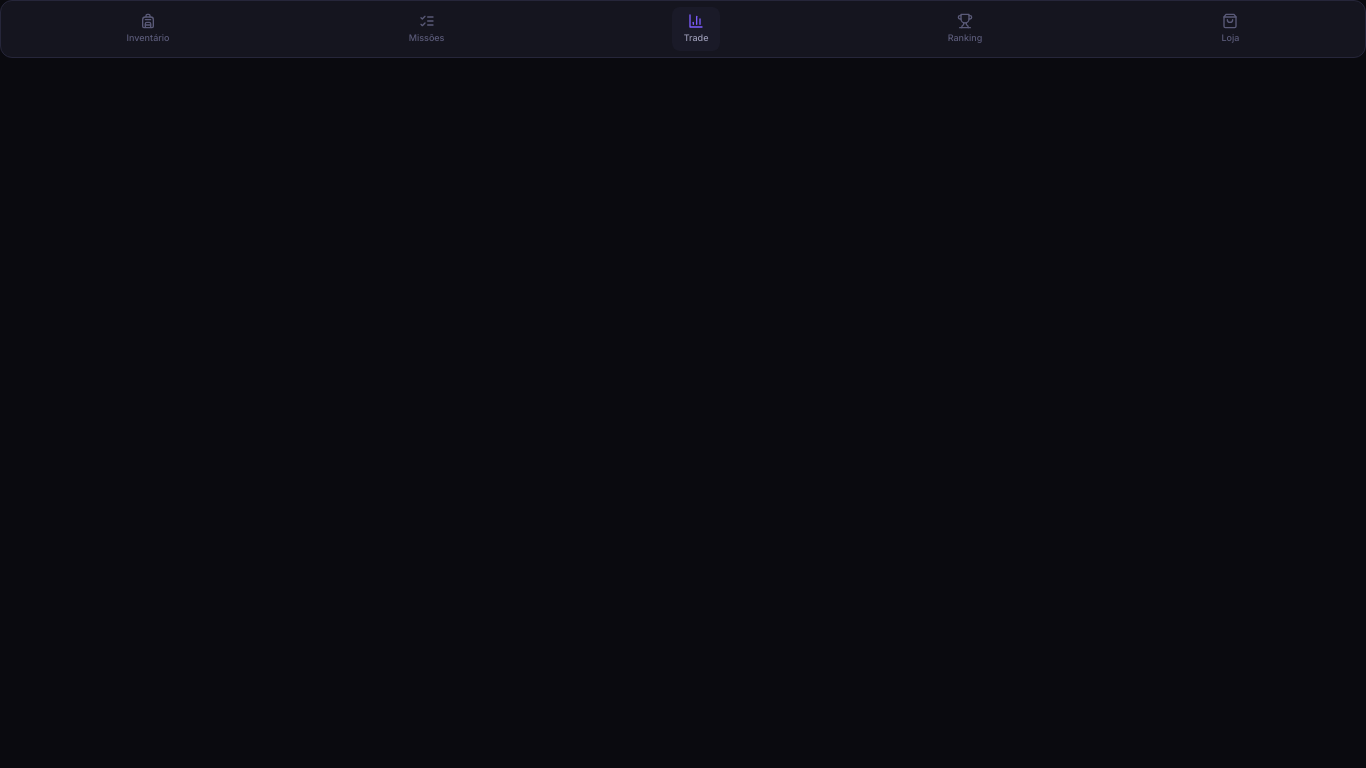
MobileGameNav locale › shows the translated coming-soon sheet for the Shop tab in pt-BR
Click the button "Loja" at (1230, 29), box [1210,7,1251,50]
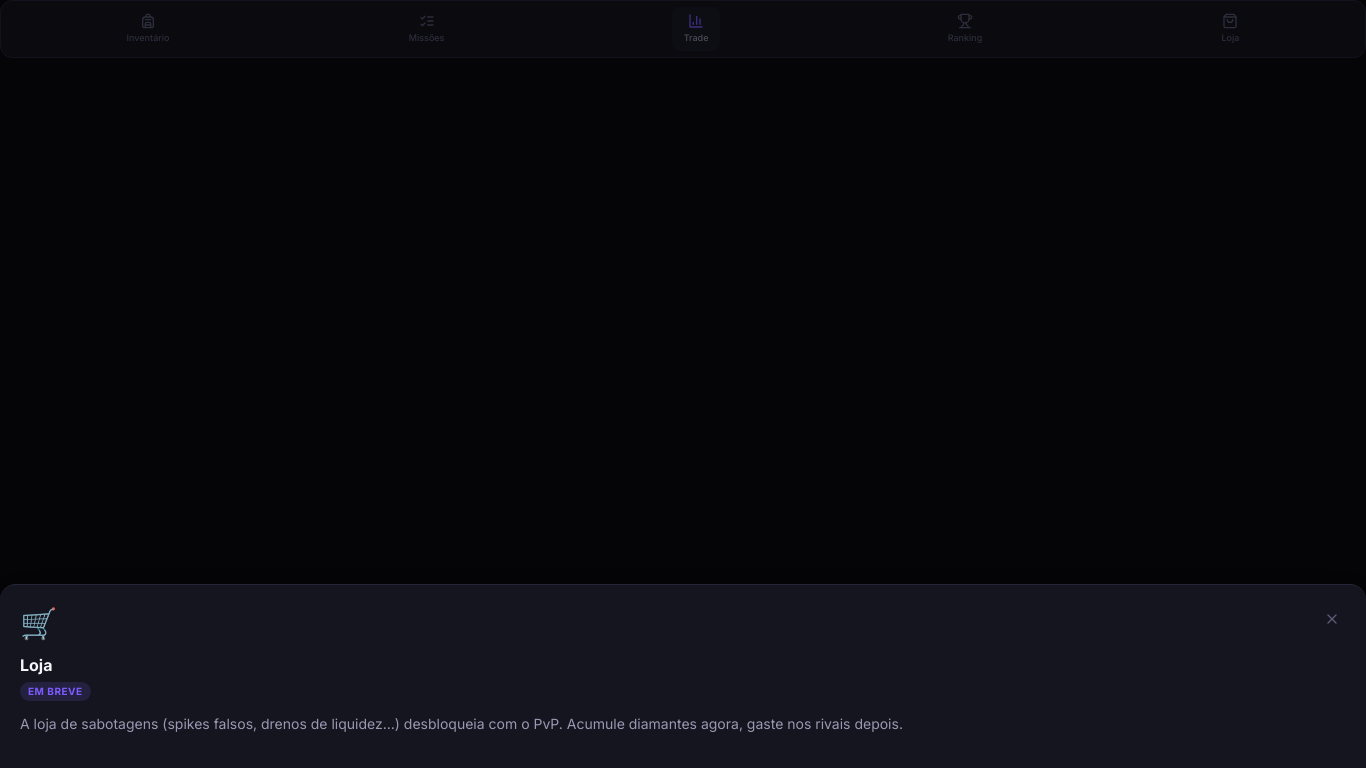
Result: the text "Em breve" is shown at [20,682,91,701]
Result: the text "loja de sabotagens" is shown at [20,715,903,732]
